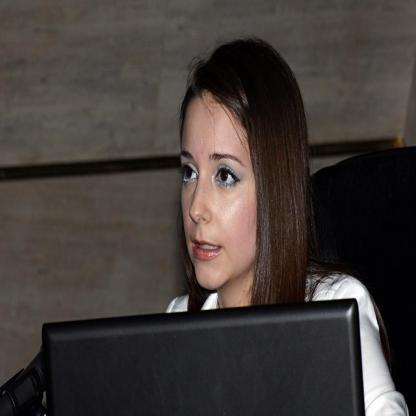board: (42, 294, 366, 416)
